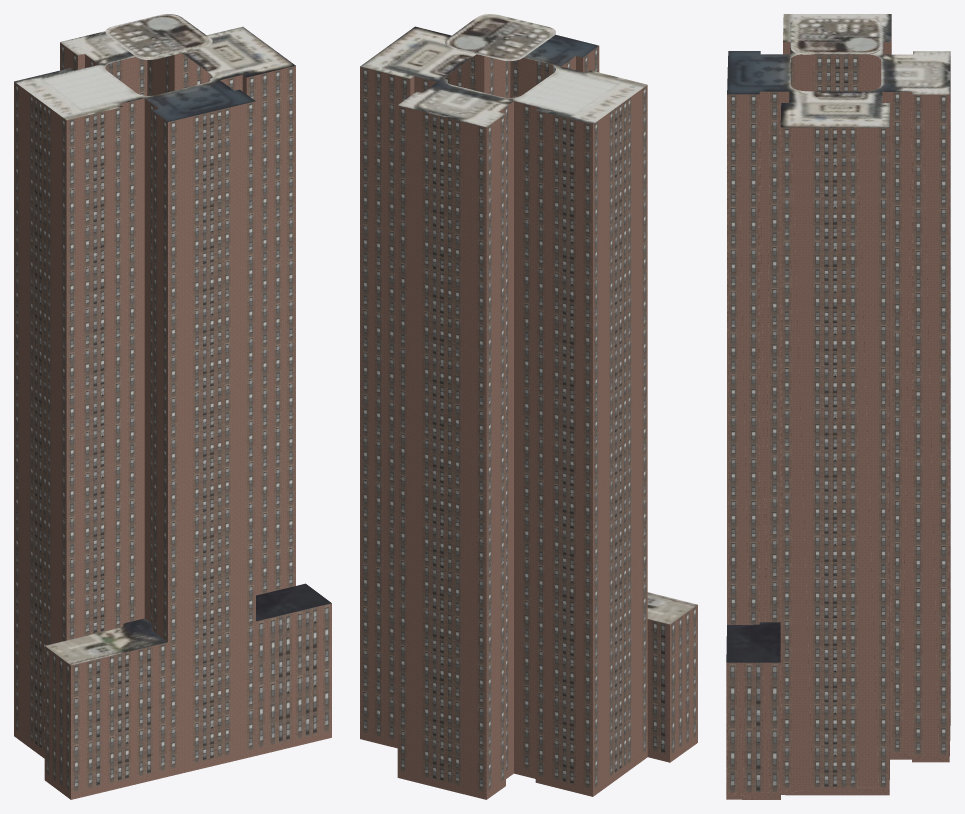
File: building22.fbx
3 renders of one model, left to right at view 1: azimuth 30°, elevation 25°; view 2: azimuth 150°, elevation 25°; view 3: azimuth 270°, elevation 25°, orthographic. The views are drawn at different scales.
Parts seen in each view (by area): view 1: geometryt040100010000000110110100010110110110100st112_T_0f8c, Object.2103, geometryt040100010000000110110100010110110110100st114_T_c129; view 2: geometryt040100010000000110110100010110110110100st112_T_0f8c, Object.2103, geometryt040100010000000110110100010110110110100st114_T_c129; view 3: geometryt040100010000000110110100010110110110100st112_T_0f8c, Object.2103, geometryt040100010000000110110100010110110110100st114_T_c129.
Part boxes in pixels (x1,y1,x2,y2): geometryt040100010000000110110100010110110110100st112_T_0f8c: [15, 43, 330, 792]; Object.2103: [14, 42, 331, 799]; geometryt040100010000000110110100010110110110100st114_T_c129: [14, 14, 331, 665]; geometryt040100010000000110110100010110110110100st112_T_0f8c: [361, 47, 696, 791]; Object.2103: [360, 46, 697, 799]; geometryt040100010000000110110100010110110110100st114_T_c129: [360, 14, 697, 624]; geometryt040100010000000110110100010110110110100st112_T_0f8c: [728, 54, 950, 792]; Object.2103: [726, 22, 950, 799]; geometryt040100010000000110110100010110110110100st114_T_c129: [726, 14, 950, 662].
Bounding box in the file's own units: 6066 × 15400 × 4445.
Materials: 3 (3 with a texture image).
